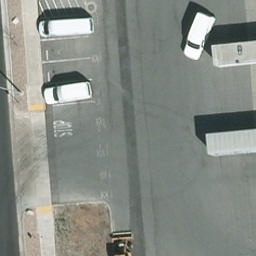car: (40, 84, 94, 106)
van: (183, 9, 220, 66), (35, 18, 94, 35)
